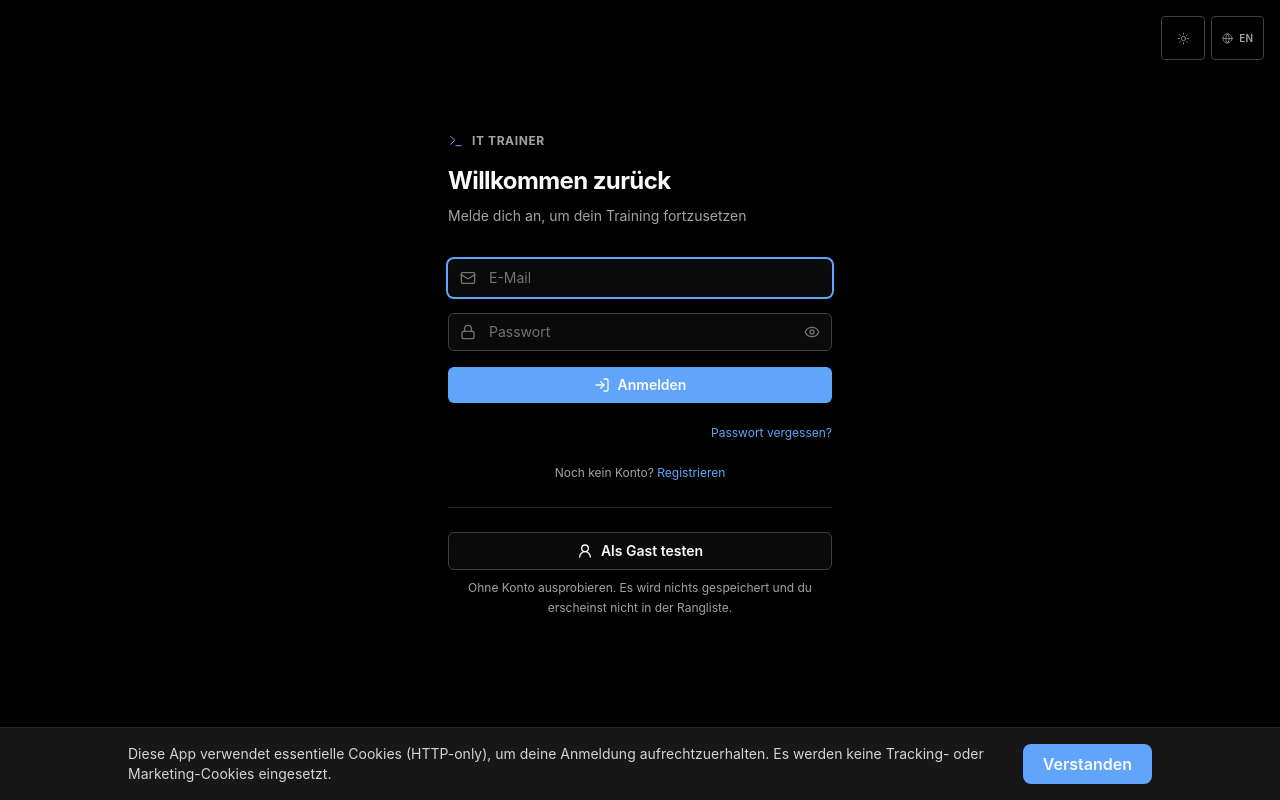
it: default tier on login (US-46) › every level opens on its first unlocked tier › a level-1 player logs in on 4 bits
Expected: the heading "Willkommen zurück" is shown, [448,166,670,195]
Type "test@example.com" into the field labelled "E-Mail" at (640,278), box [448,259,832,297]
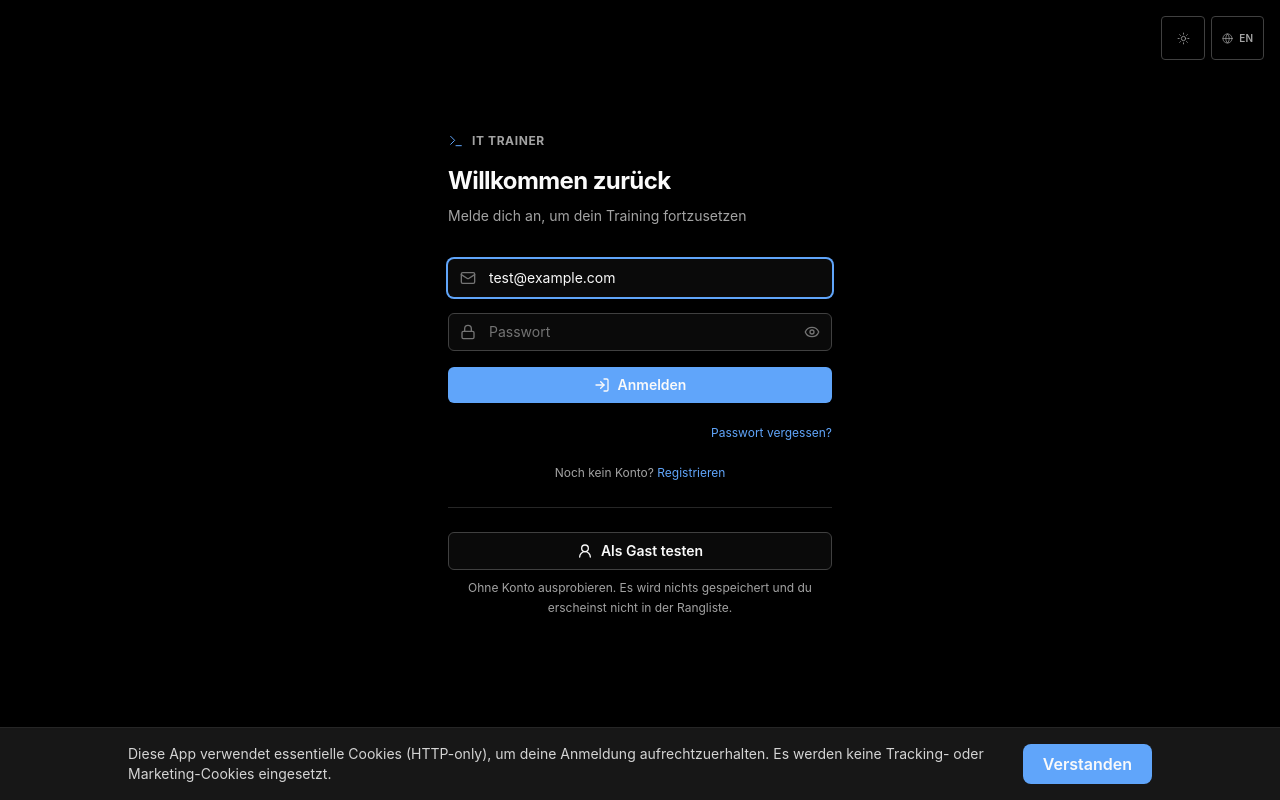
Type "Test1234!" into the password field labelled "Passwort" at (640,332), box [448,313,832,351]
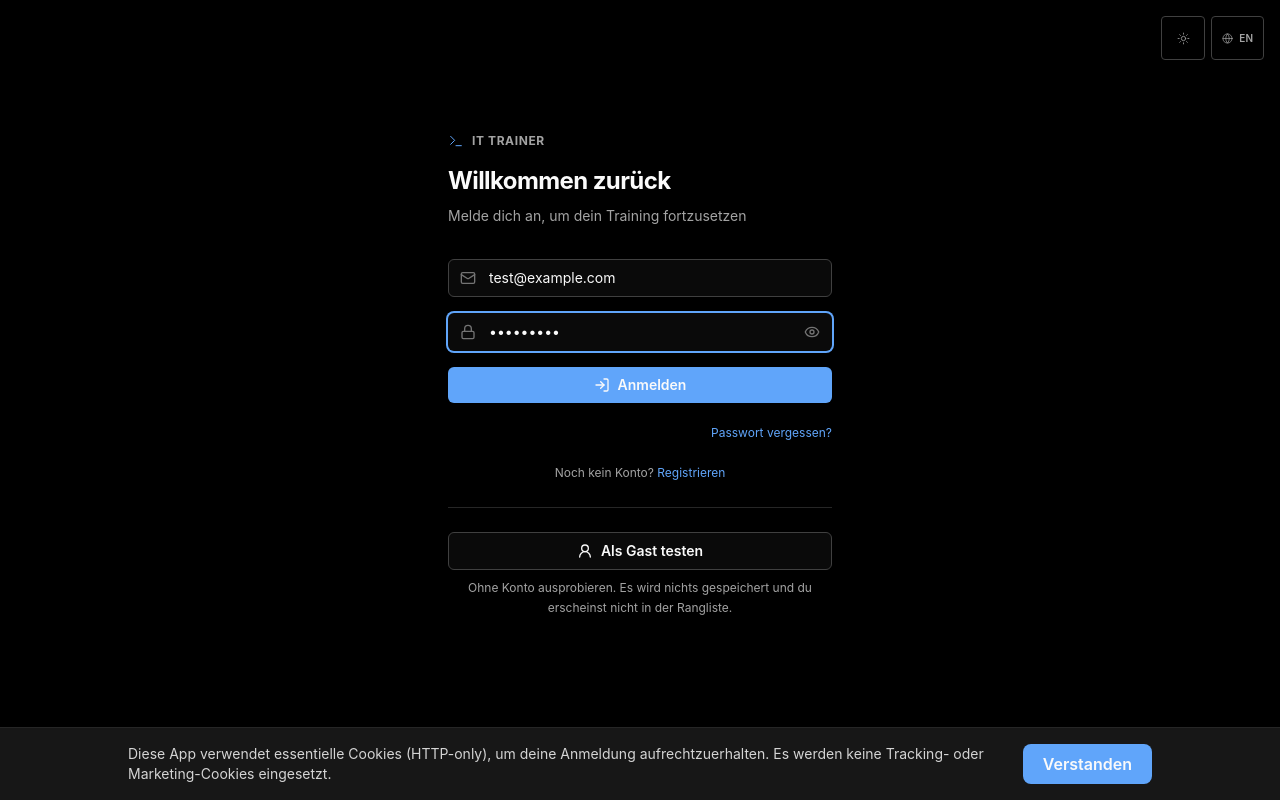
Click the button "Anmelden" at (640,385), box [448,367,832,403]
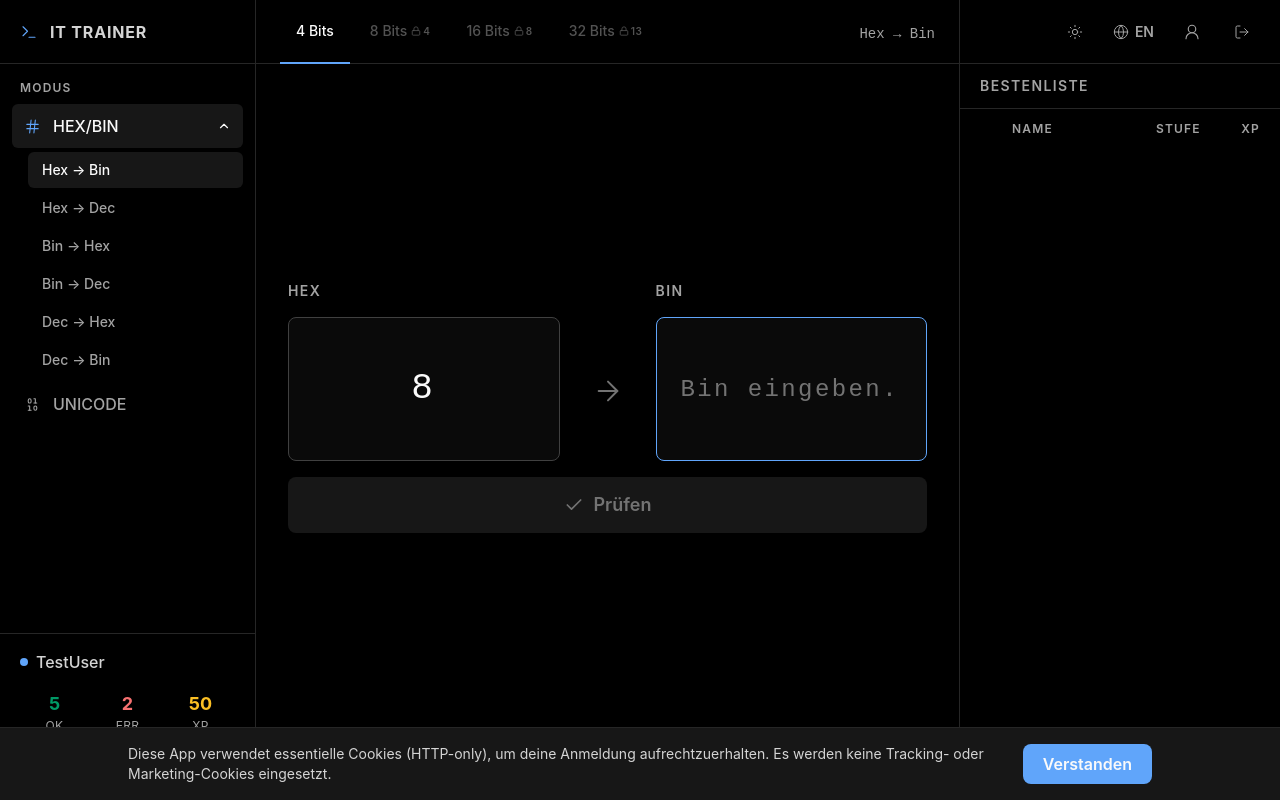
Result: the element named "hex/binary trainer" is shown at [256,0,959,750]
